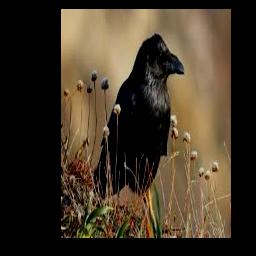Crow: (94, 32, 184, 201)
